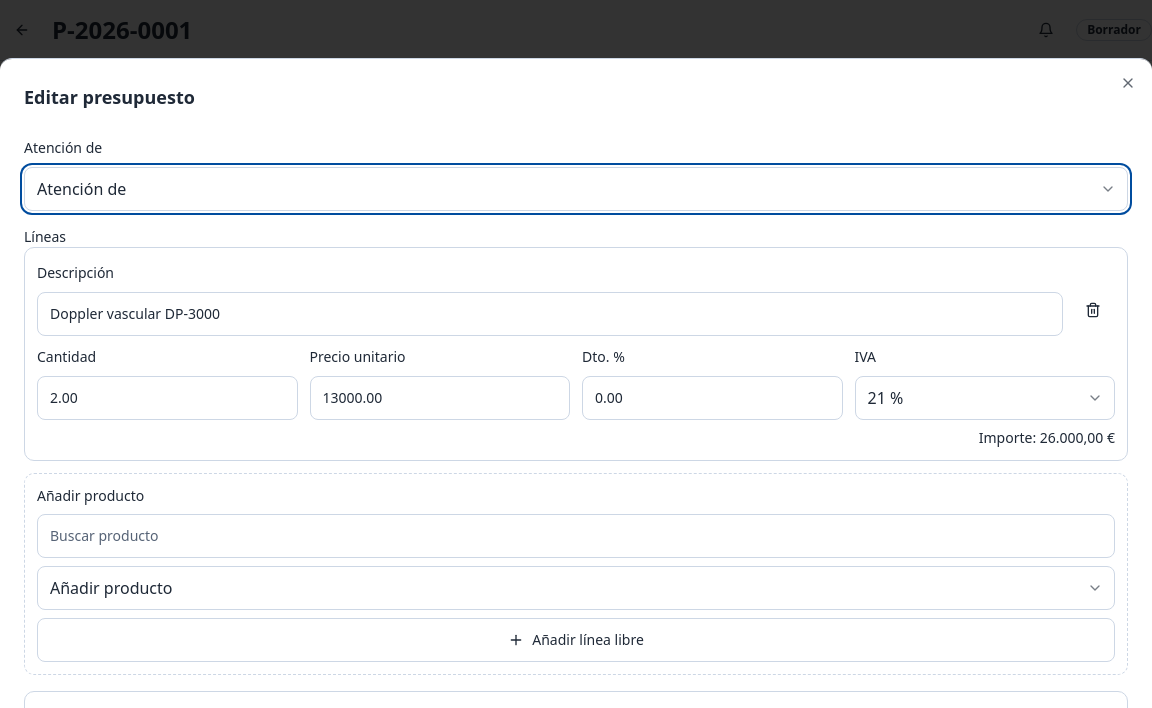
Test: QuoteForm live totals › recomputes the per-line base and totals as the user types
Replace the text in the field labelled "Dto. %" with "10" at (712, 398), box [582,376,842,420]
(page scrolled)
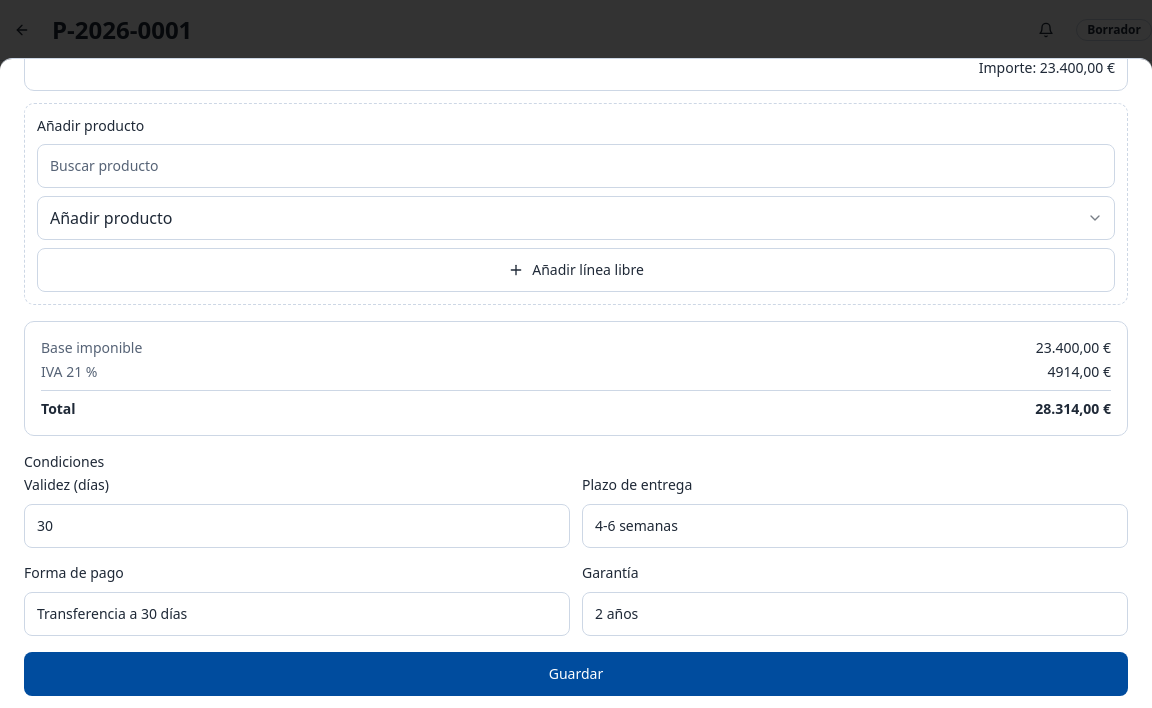
Check: the text "Importe: 23.400,00 €" is shown, box [979,58,1115,77]
Check: the text "4914,00 €" is shown, box [1048,362,1111,382]
Check: the text "28.314,00 €" is shown, box [1035,399,1111,419]
